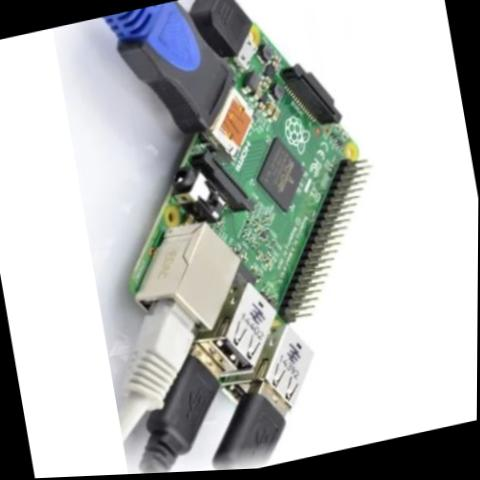Raspberry-Pi-2-Model-B: (77, 0, 420, 460)
